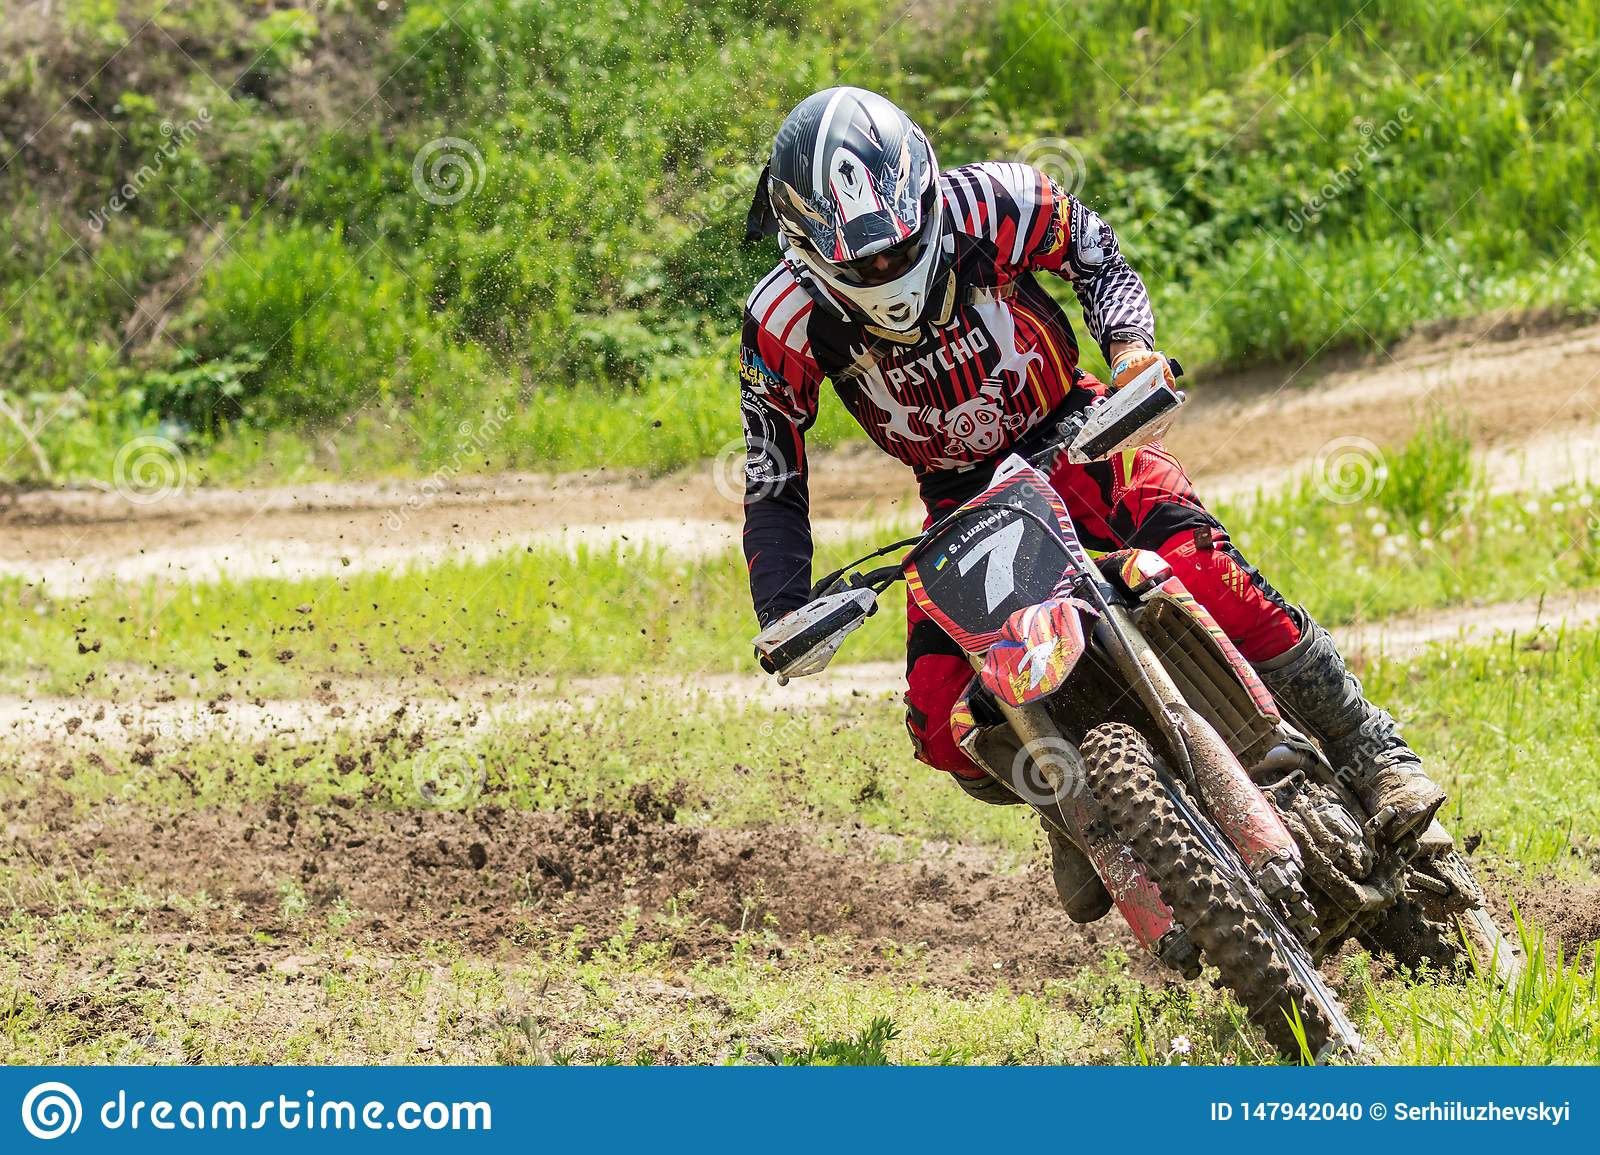helmet: (755, 102, 966, 327)
